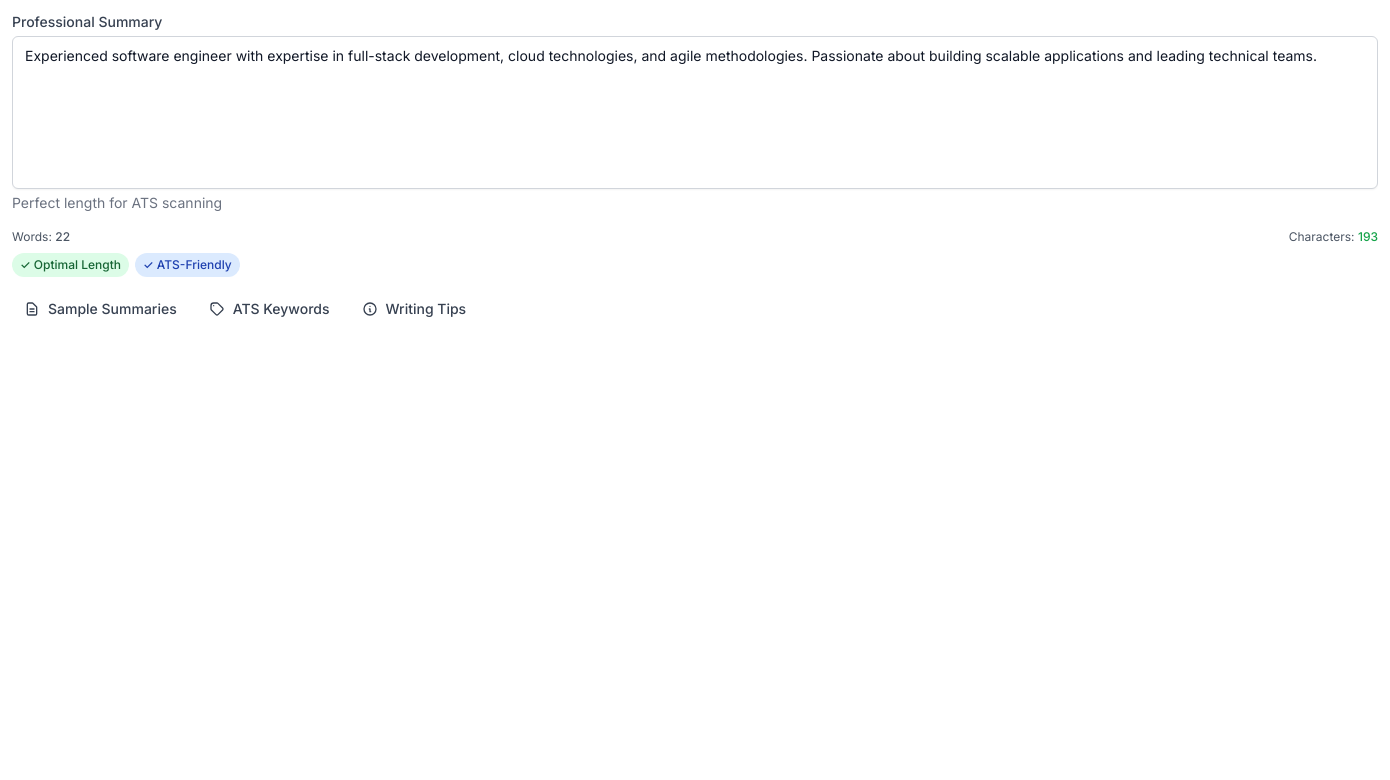
it: SummaryEditor › shows writing tips when tips button is clicked
The image size is (1390, 780).
Click the button "Writing Tips".
click(414, 309)  # box [350, 293, 478, 325]
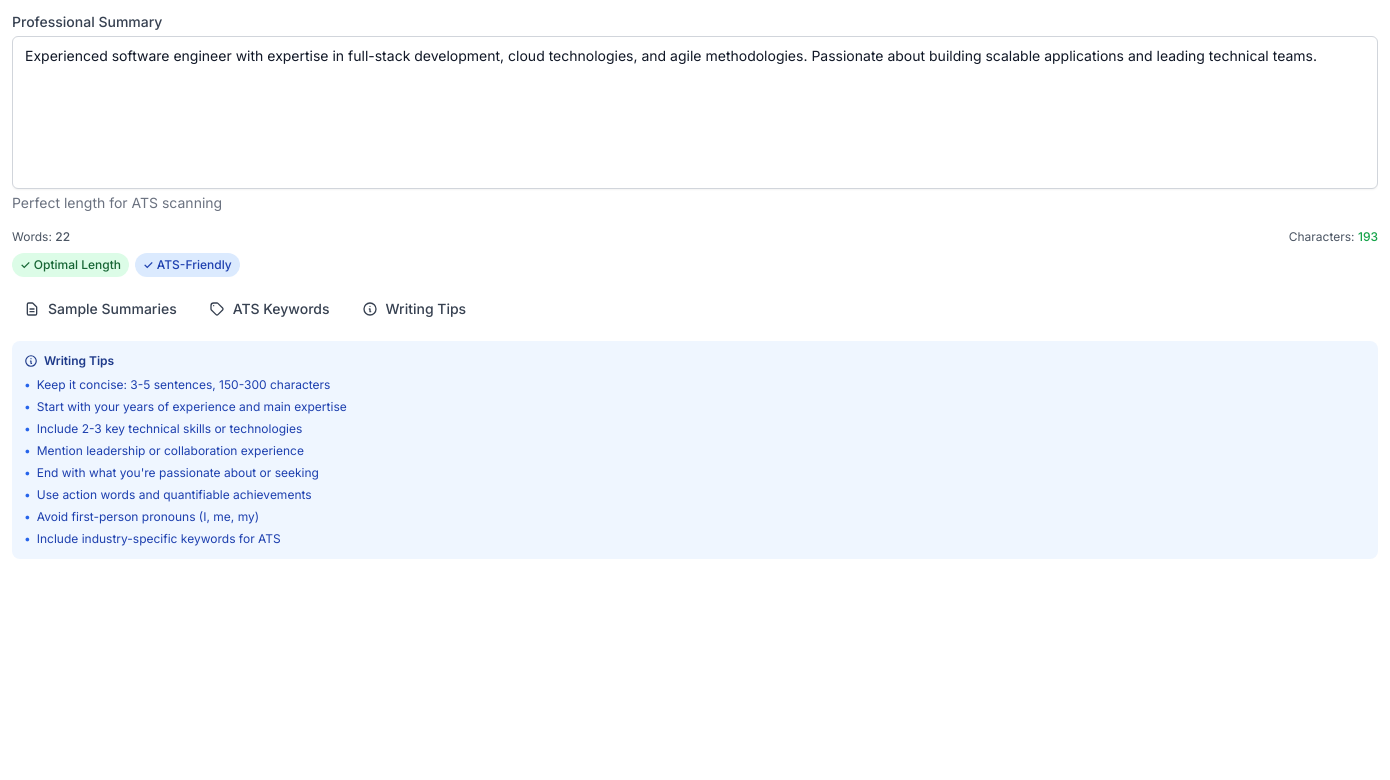
Expected: the text "Keep it concise: 3-5 sentences, 150-300 characters" is shown, [37, 377, 330, 393]
